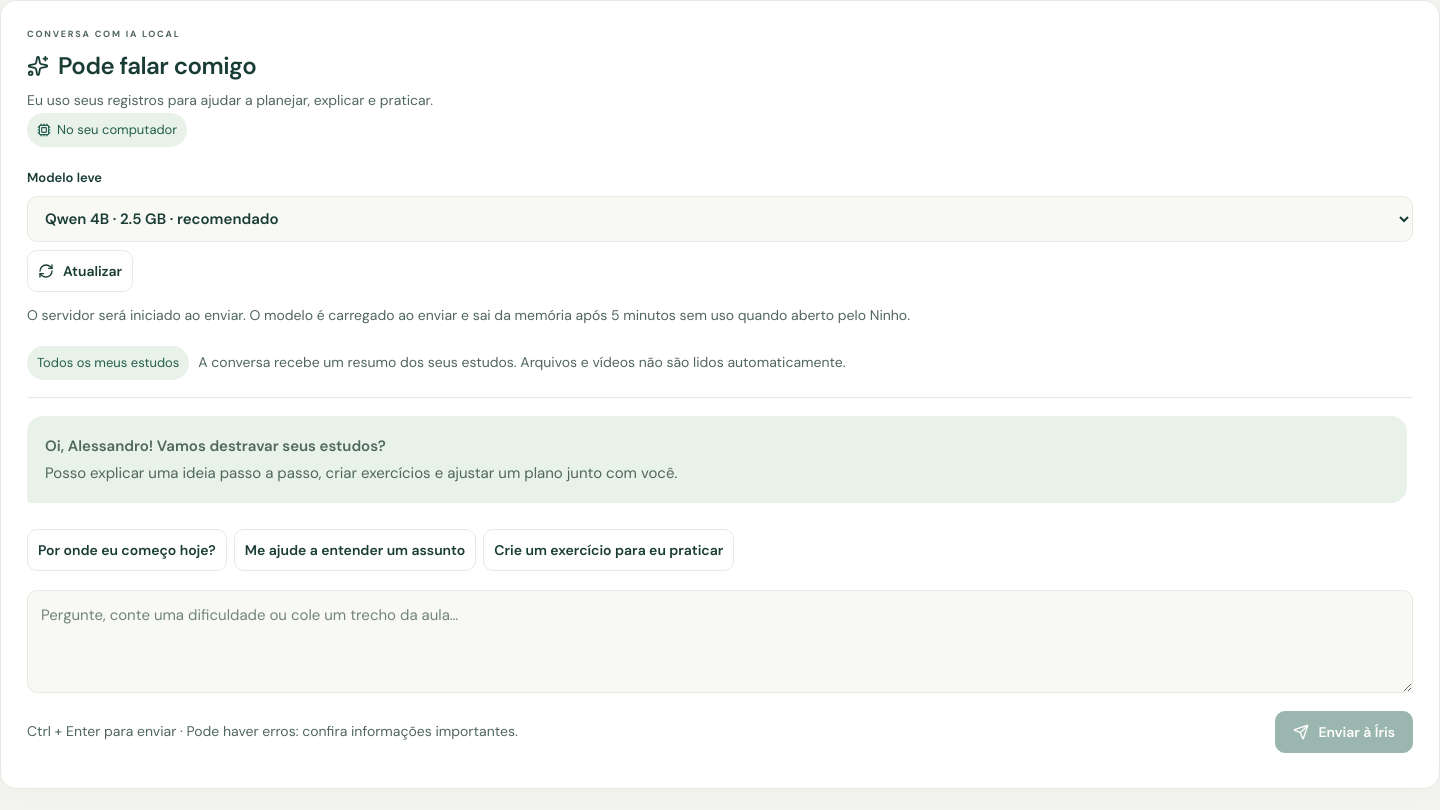
Test: conversa real da Íris pela ponte nativa › primeiro envio está disponível com servidor desconectado e modelo local listado
Expected: the dropdown named "Modelo de IA" shows "Qwen 4B · 2.5 GB · recomendado", [27, 196, 1413, 242]
Type "Explique chave estrangeira" into the text box named "Converse com Íris".
click(720, 641); type("Explique chave estrangeira")  # box [27, 590, 1413, 693]
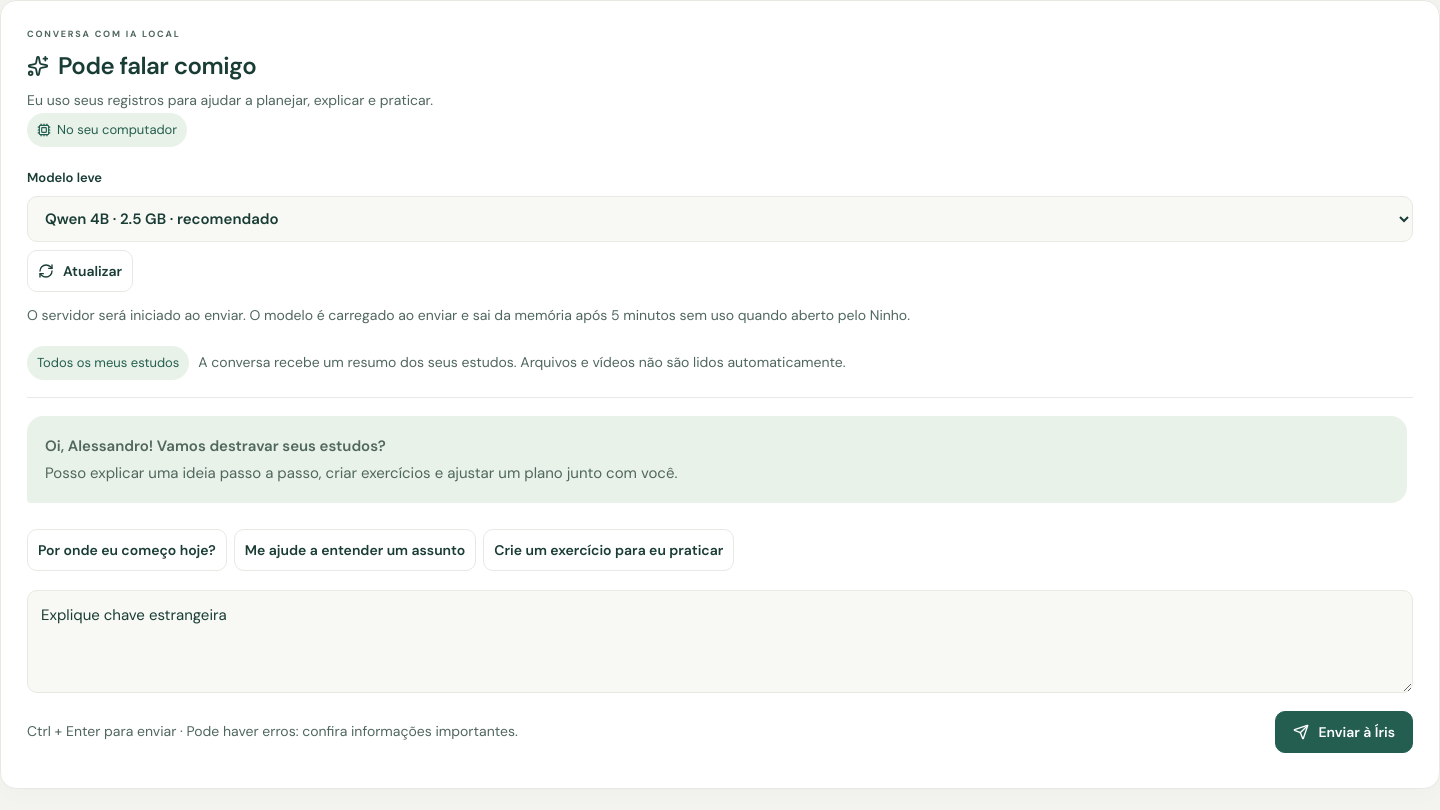
Click the button "Enviar à Íris".
click(1344, 732)  # box [1275, 711, 1413, 753]
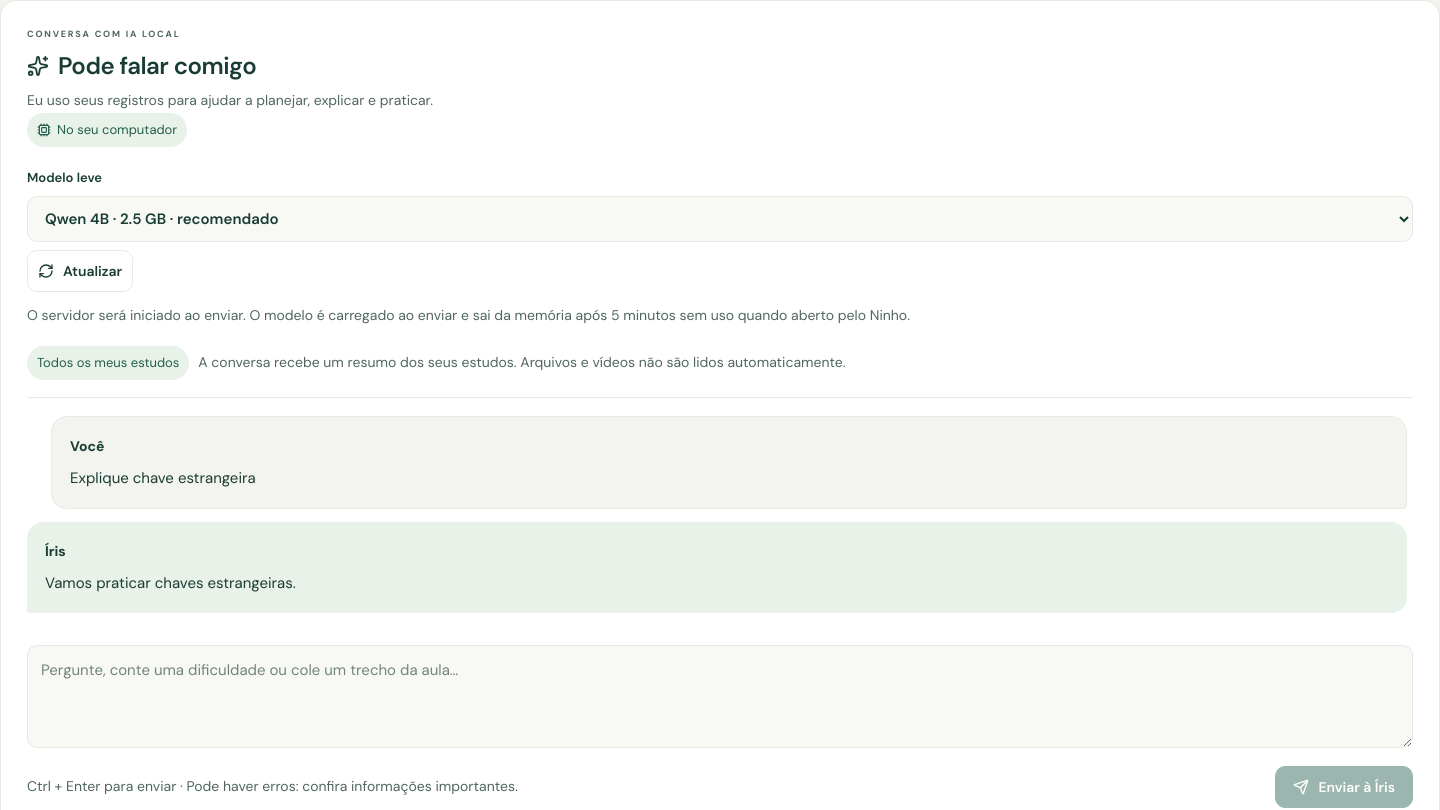
Expected: the text "Vamos praticar chaves estrangeiras." is shown, [45, 573, 296, 593]
